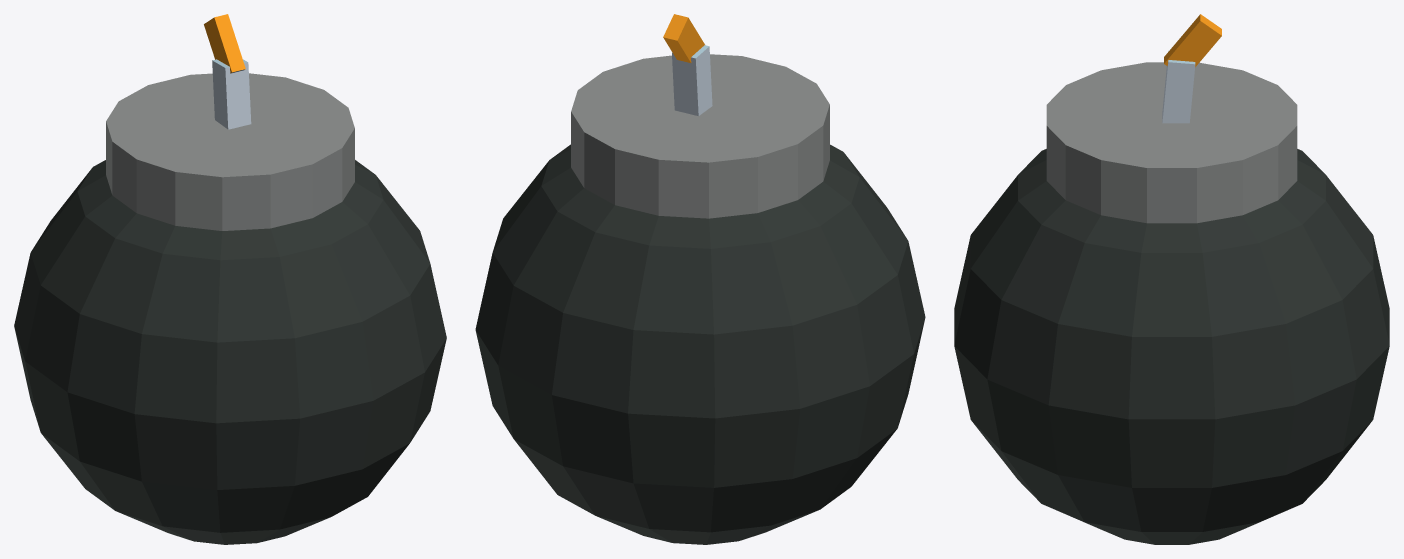
File: bomb.gltf
3 views of the same model, side by side, from view 1: azimuth 30°, elevation 25°; view 2: azimuth 150°, elevation 25°; view 3: azimuth 270°, elevation 25° (orthographic). The views are drawn at different scales.
Parts seen in each view (by area): view 1: sphere, cylinder, cube (×2); view 2: sphere, cylinder, cube (×2); view 3: sphere, cylinder, cube (×2).
Part boxes in pixels (bbox=[...]): sphere: bbox=[14, 160, 446, 544]; cylinder: bbox=[106, 73, 354, 230]; cube (×2): bbox=[204, 14, 251, 129]; sphere: bbox=[475, 144, 925, 544]; cylinder: bbox=[571, 54, 829, 218]; cube (×2): bbox=[663, 14, 712, 115]; sphere: bbox=[954, 149, 1389, 544]; cylinder: bbox=[1046, 62, 1297, 223]; cube (×2): bbox=[1162, 14, 1221, 123].
Size of the model in its own units: 1 by 1.29 by 1.
Materials: 1 (1 with a texture image).
